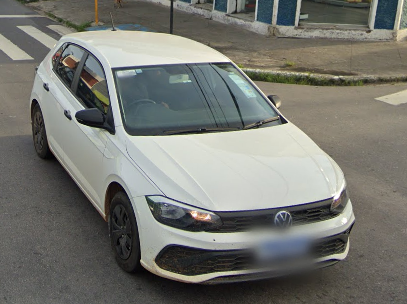car: (26, 27, 357, 288)
